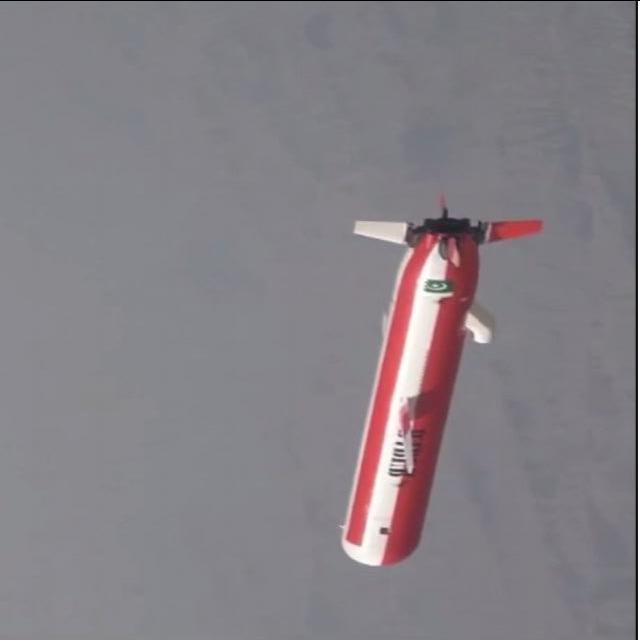missile: (342, 208, 540, 568)
